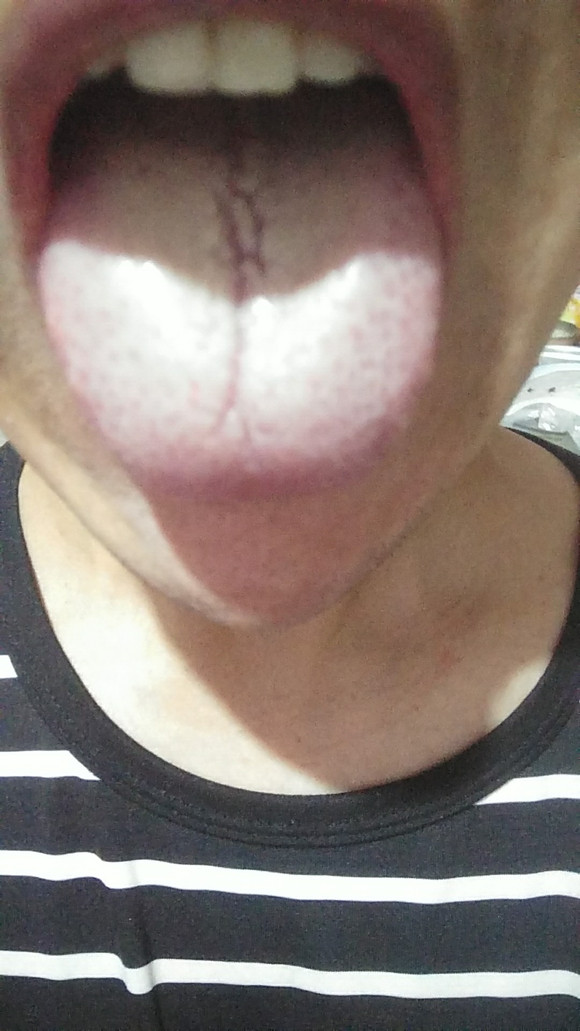baitaishe: (40, 80, 446, 504)
liewenshe: (184, 104, 271, 448)
pangdashe: (39, 80, 445, 504)
